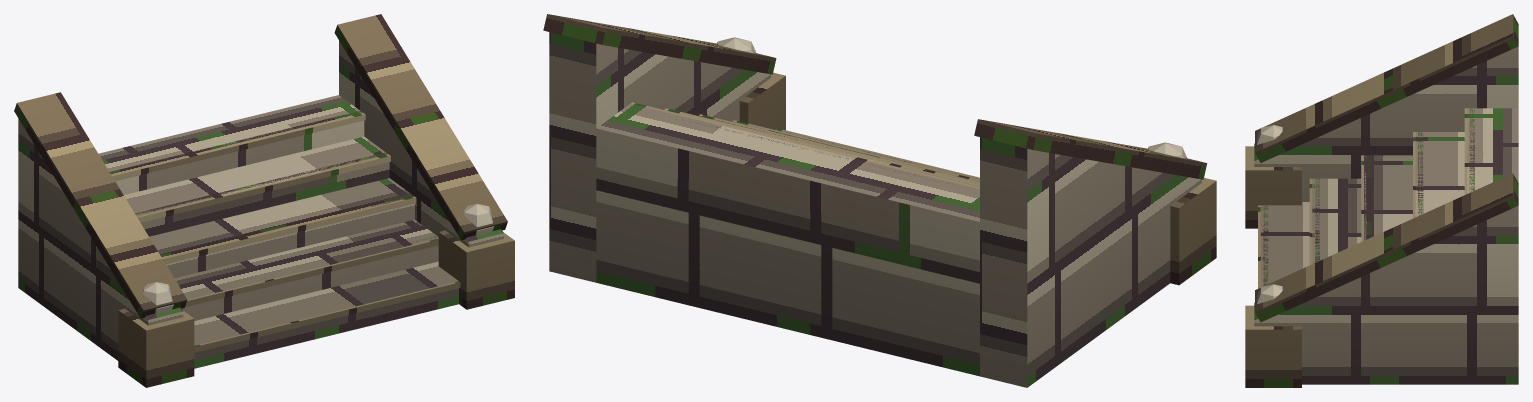
The model's file is scene_stairs_bank.glb.
3 views of the same model, side by side, from view 1: azimuth 30°, elevation 25°; view 2: azimuth 150°, elevation 25°; view 3: azimuth 270°, elevation 25° (orthographic). The views are drawn at different scales.
Visible parts, largest first — view 1: scene_stairs_bank; view 2: scene_stairs_bank; view 3: scene_stairs_bank.
Boxes of the visible parts, x1,y1,x2,y2 form: scene_stairs_bank: [14, 14, 514, 387]; scene_stairs_bank: [543, 14, 1216, 387]; scene_stairs_bank: [1245, 14, 1518, 387].
Bounding box in the file's own units: 3.36 × 1.64 × 2.12.
2 materials, 1 textured.
